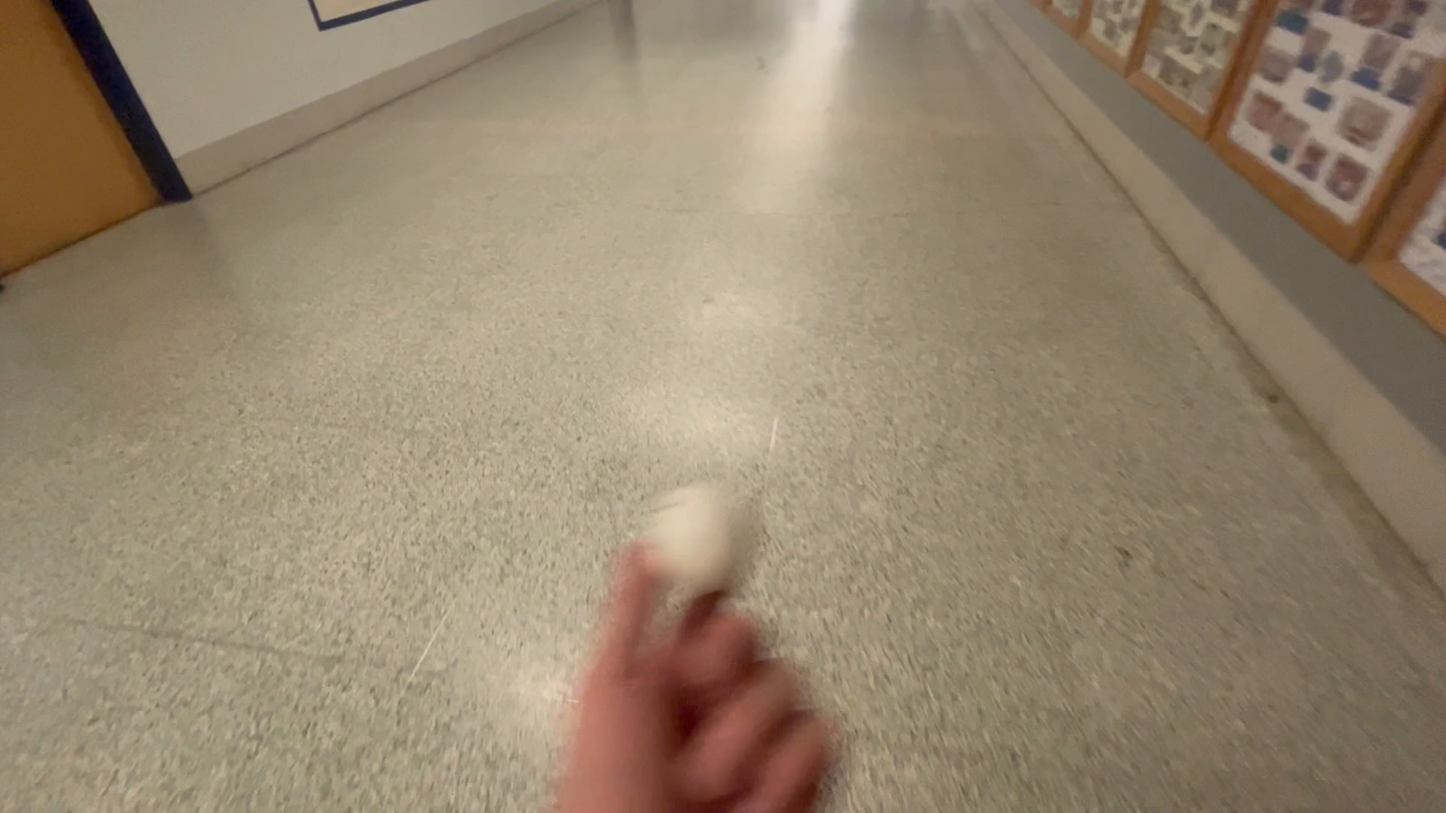Ball: (644, 484, 749, 585)
